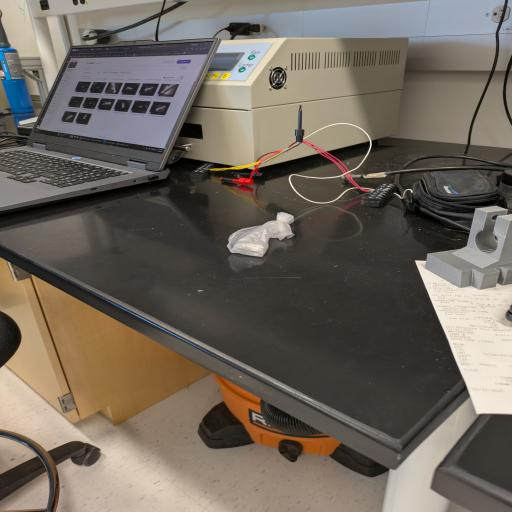rubberband: (221, 209, 298, 260)
